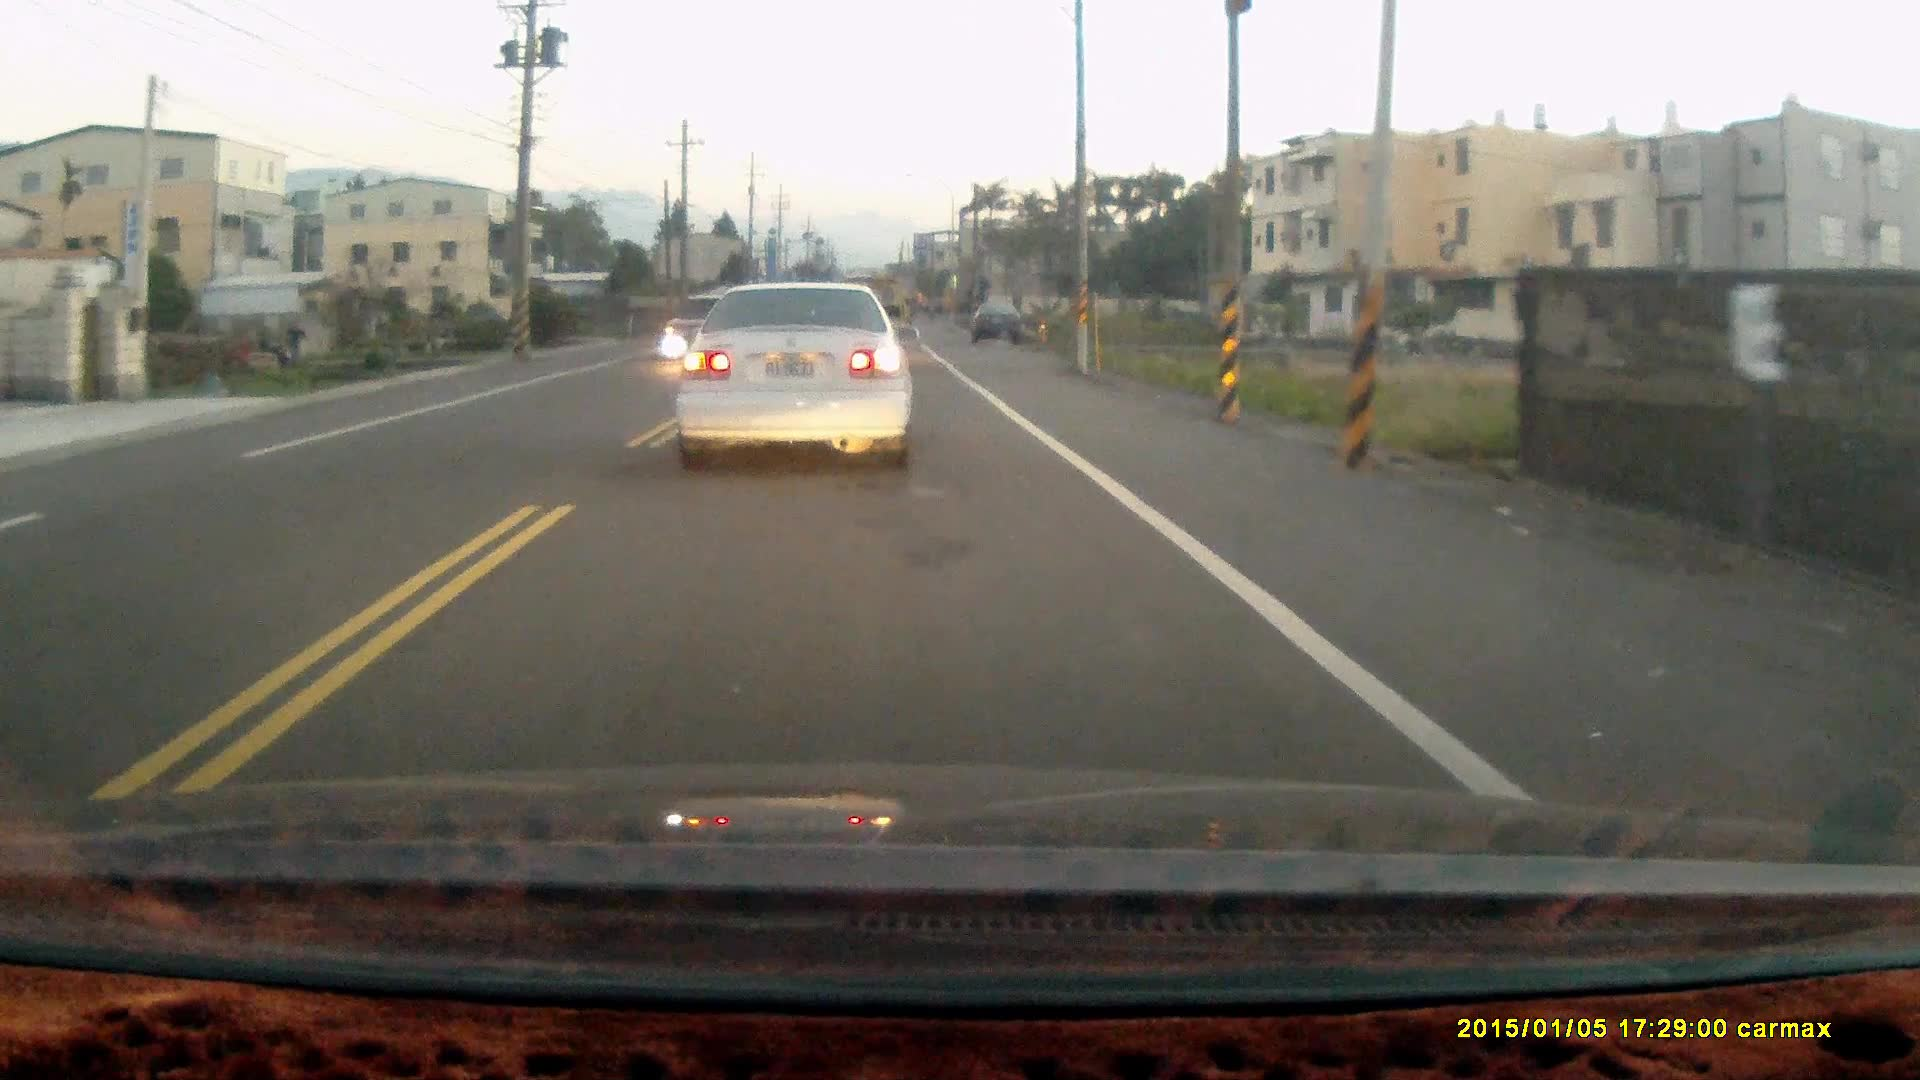pedestrian: (284, 318, 304, 367), (231, 336, 252, 379)
vehicle: (679, 280, 919, 469), (659, 290, 753, 379), (970, 301, 1029, 346)
